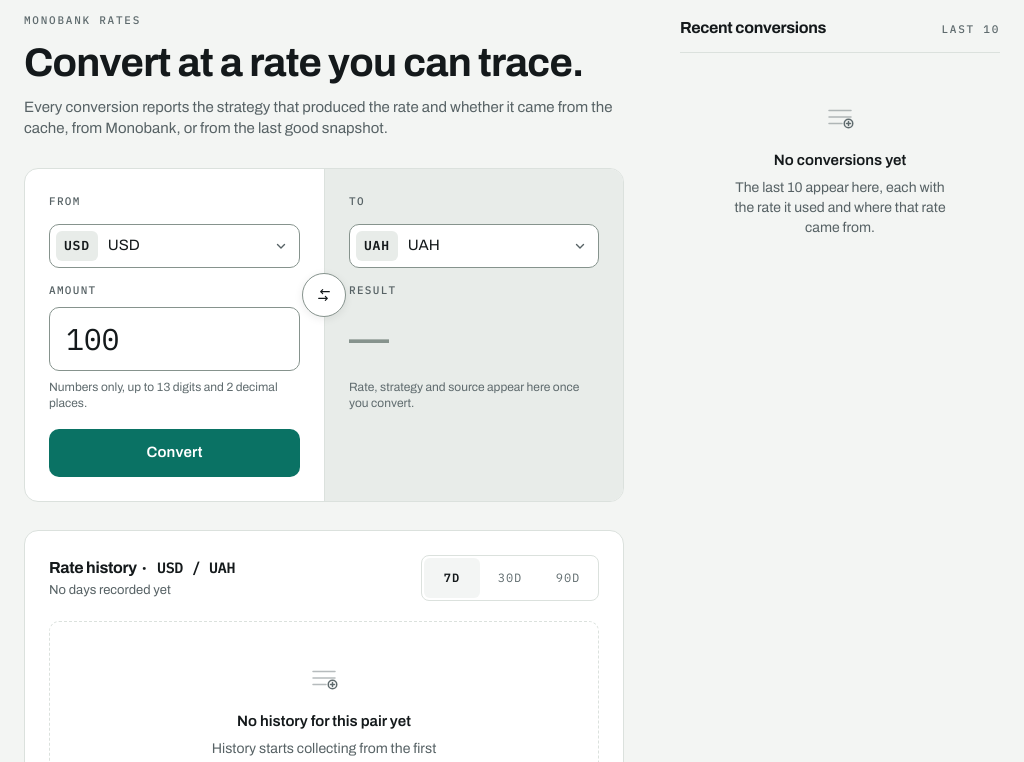
Test case: converting while the API is unreachable › does not estimate around an answer that describes the request
The image size is (1024, 762).
Click the button "Convert". click: (174, 453)
box: x1=49 y1=429 x2=300 y2=477
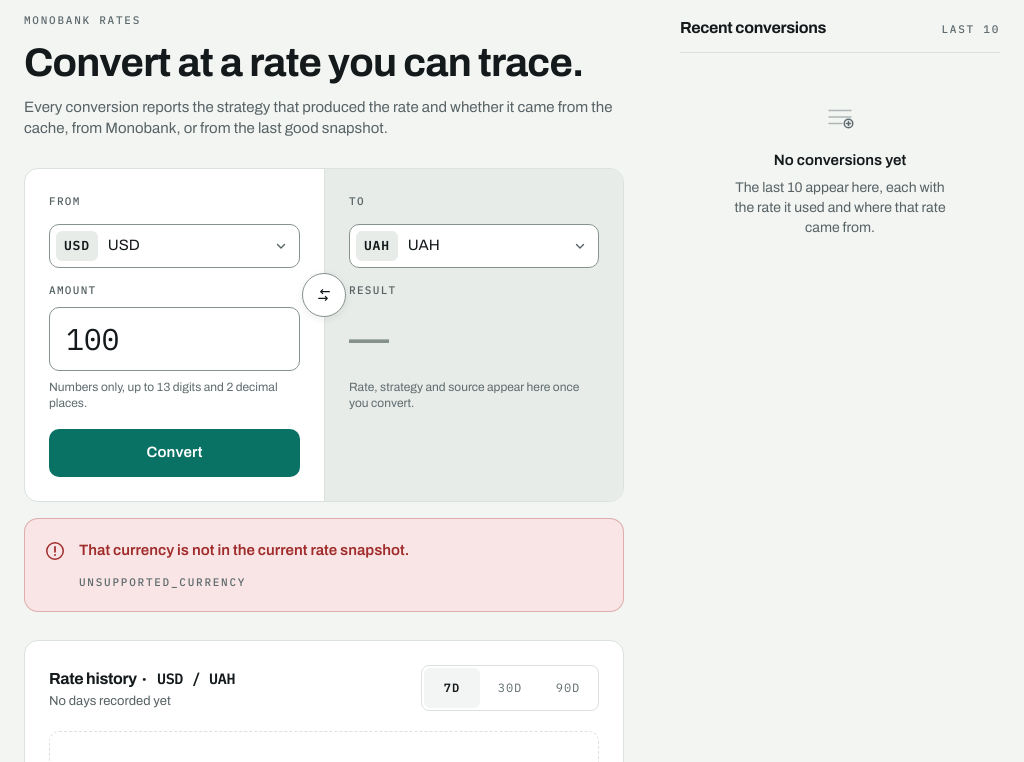
Expected: the text "Rate, strategy and source appear here once you convert." is shown, x1=349 y1=379 x2=599 y2=411
Result: the text "That currency is not in the current rate snapshot." is shown at x1=79 y1=542 x2=409 y2=558
